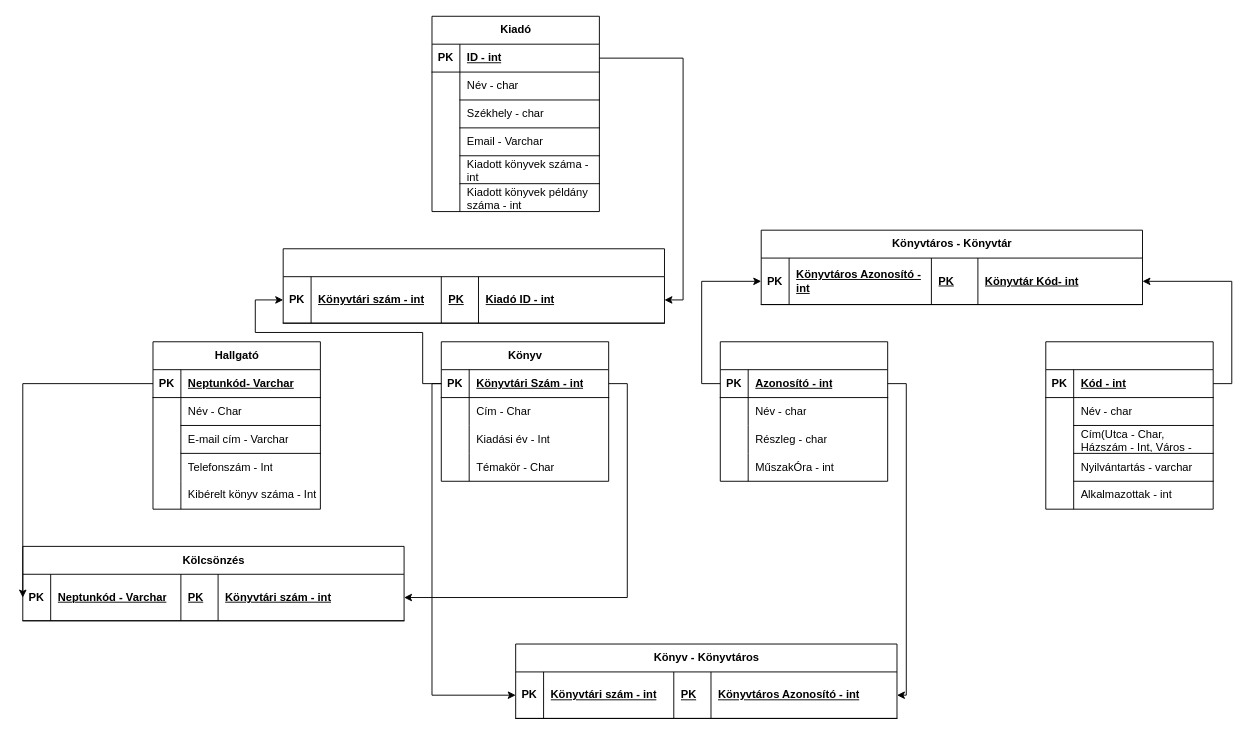
The diagram is 1256 pixels wide and 735 high, and some of its shapes have lost their labels. Here are the shapes that lost their labels. From the top down, the box of each, then its label:
(282, 248, 664, 323): Könyv - Kiadó
(719, 341, 888, 481): Könyvtáros
(1045, 341, 1213, 509): Könyvtár
